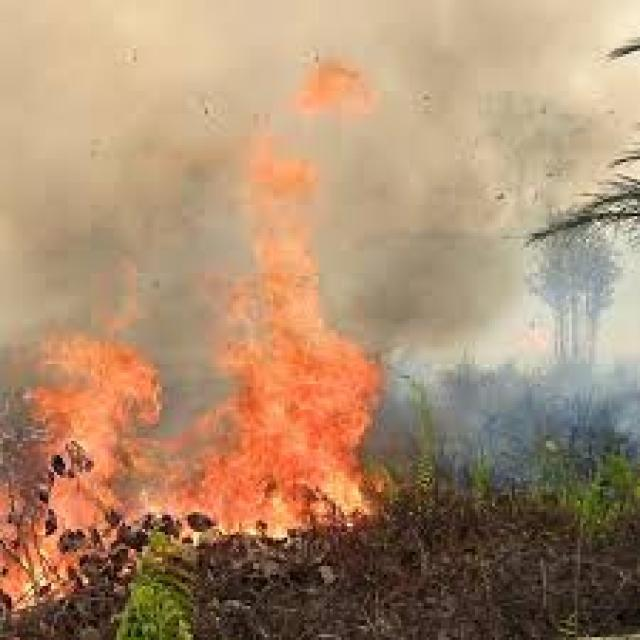Fire: (4, 346, 165, 582), (224, 254, 357, 532)
Smoke: (369, 0, 627, 323), (5, 5, 216, 321)
